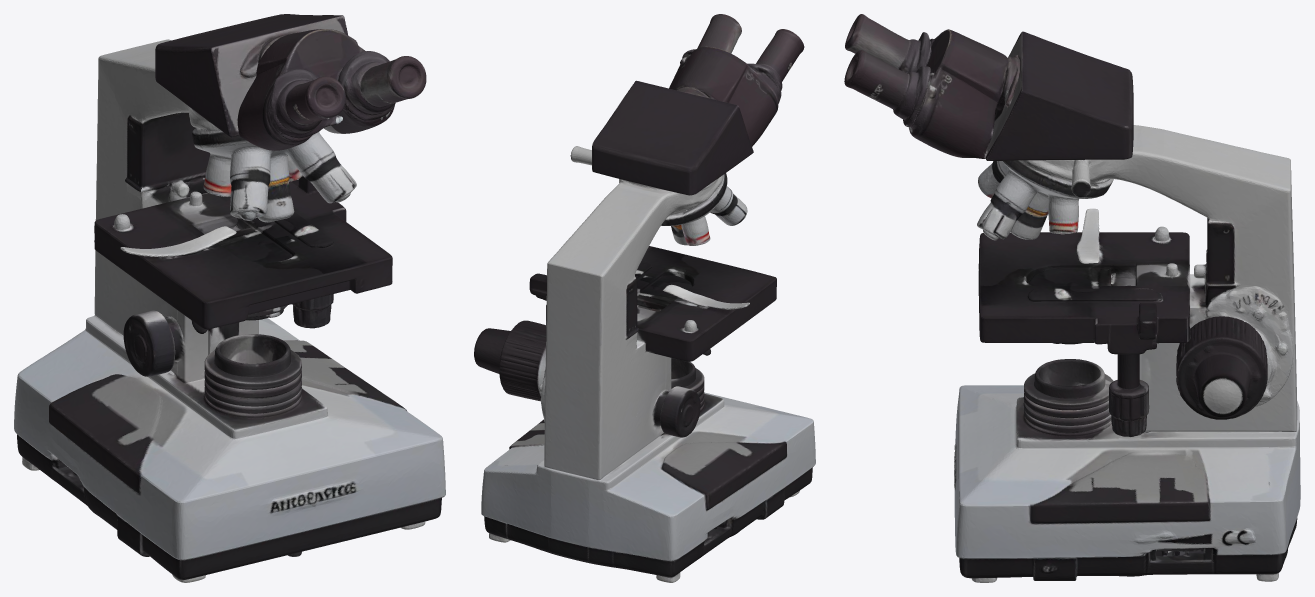
File: tripo_convert_a2c25ee9-dc37-476d-ba48-c80f7cc92ca7.glb
The picture shows the model from 3 angles, left to right: view 1: azimuth 30°, elevation 25°; view 2: azimuth 150°, elevation 25°; view 3: azimuth 270°, elevation 25°; orthographic projection. The views are drawn at different scales.
Visible parts, largest first — view 1: tripo_node_a2c25ee9-dc37-476d-ba48-c80f7cc92ca7; view 2: tripo_node_a2c25ee9-dc37-476d-ba48-c80f7cc92ca7; view 3: tripo_node_a2c25ee9-dc37-476d-ba48-c80f7cc92ca7.
Boxes of the visible parts, <box> form: tripo_node_a2c25ee9-dc37-476d-ba48-c80f7cc92ca7: <box>14,14,445,582</box>; tripo_node_a2c25ee9-dc37-476d-ba48-c80f7cc92ca7: <box>474,14,815,582</box>; tripo_node_a2c25ee9-dc37-476d-ba48-c80f7cc92ca7: <box>844,14,1300,582</box>.
Size of the model in its own units: 0.5646 by 1 by 0.8215.
1 material, 1 textured.
